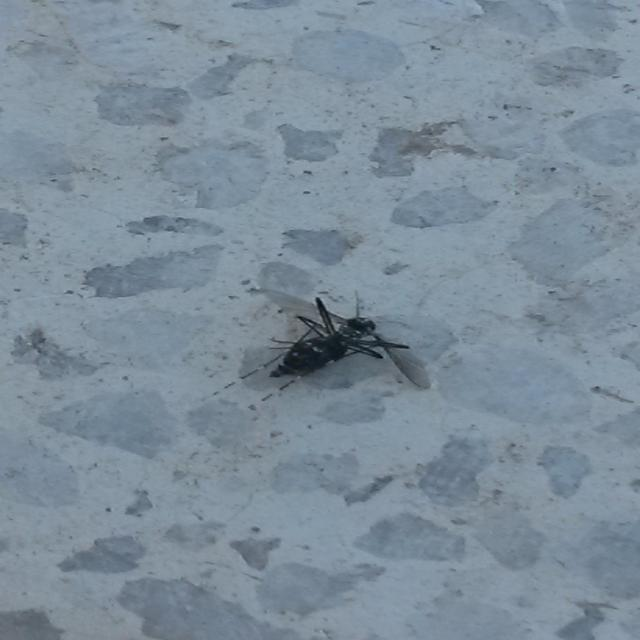albopictus: (225, 285, 432, 401)
